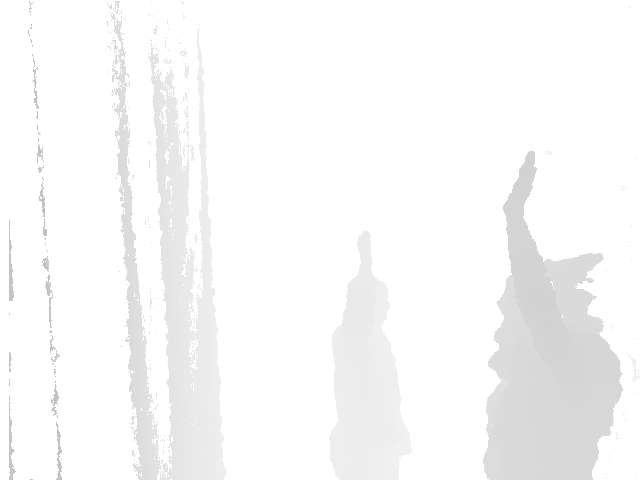hand: (497, 147, 541, 215), (350, 225, 374, 272)
head: (500, 251, 588, 336), (344, 274, 390, 326)
person: (483, 144, 624, 480), (330, 219, 415, 480)
